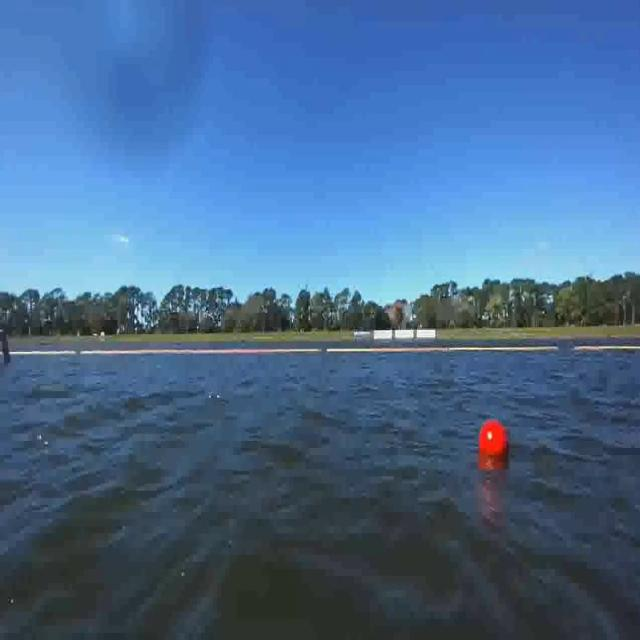red-buoy: (480, 420, 508, 460)
